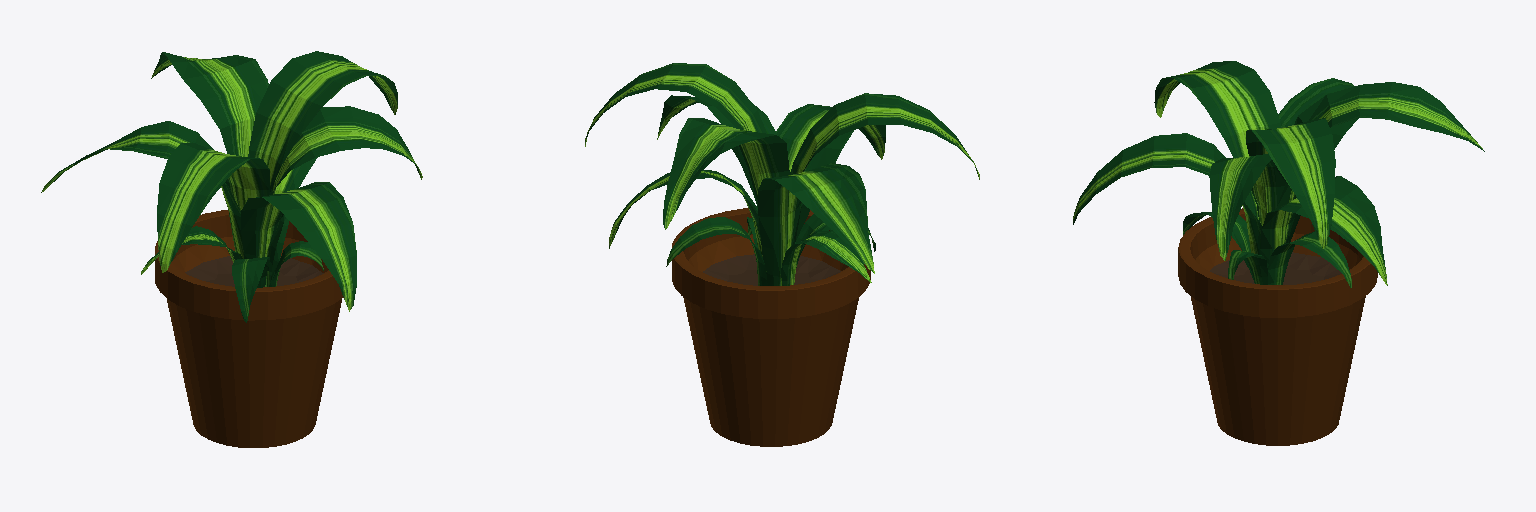
The picture shows the model from 3 angles: view 1: azimuth 30°, elevation 25°; view 2: azimuth 150°, elevation 25°; view 3: azimuth 270°, elevation 25°; orthographic projection.
Bounding box in the file's own units: 7.43 × 7.32 × 8.26.
Materials: 3 (1 with a texture image).